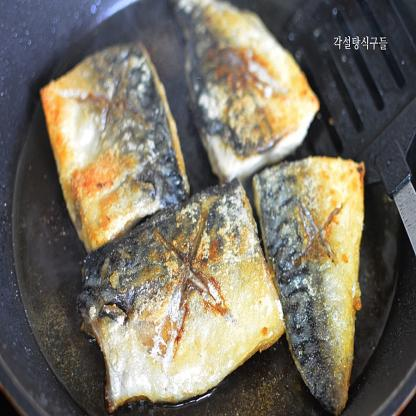Peixe: (47, 0, 367, 416)
